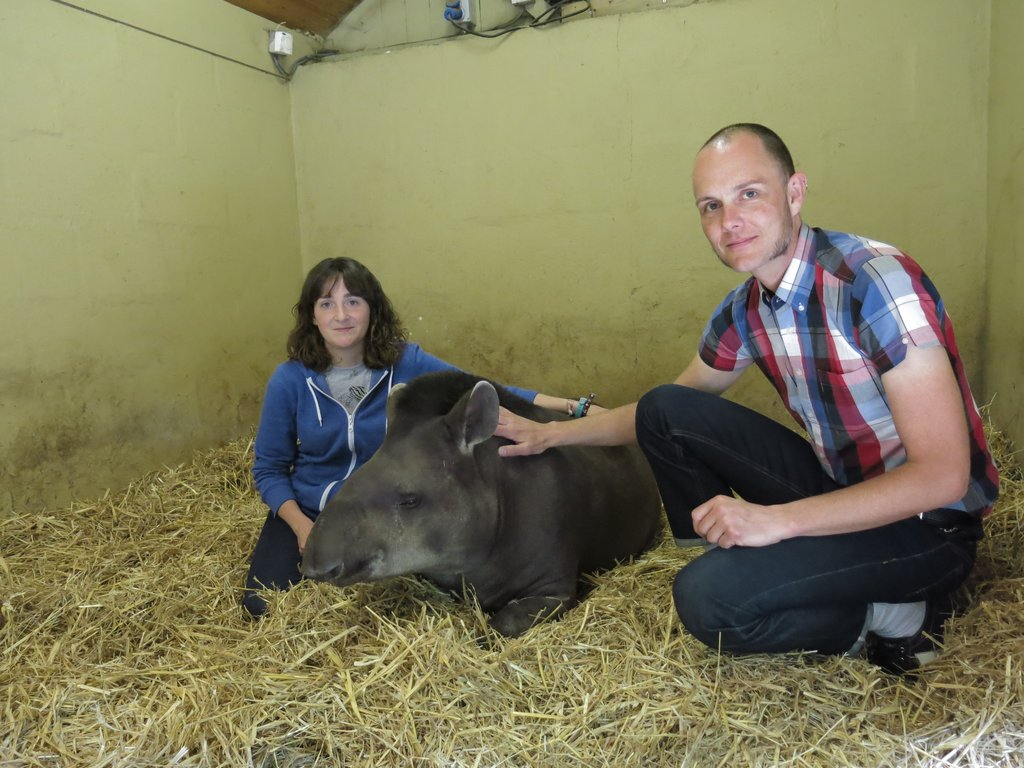Anta: (299, 377, 653, 636)
